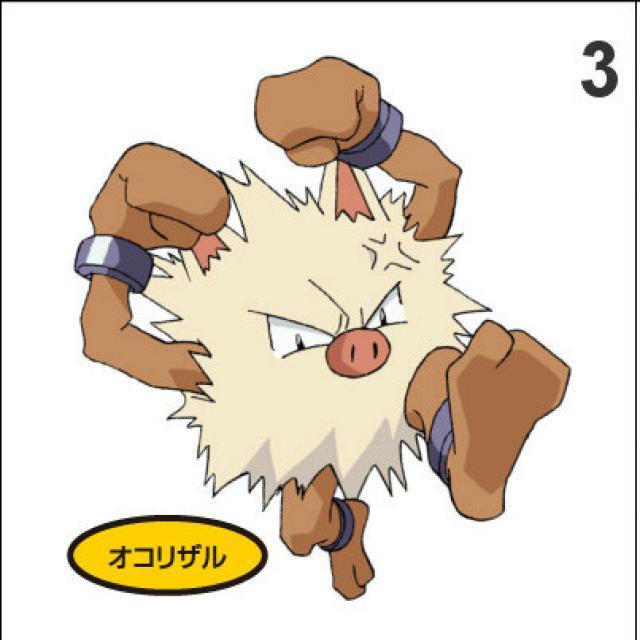Primeape: (72, 138, 539, 523)
